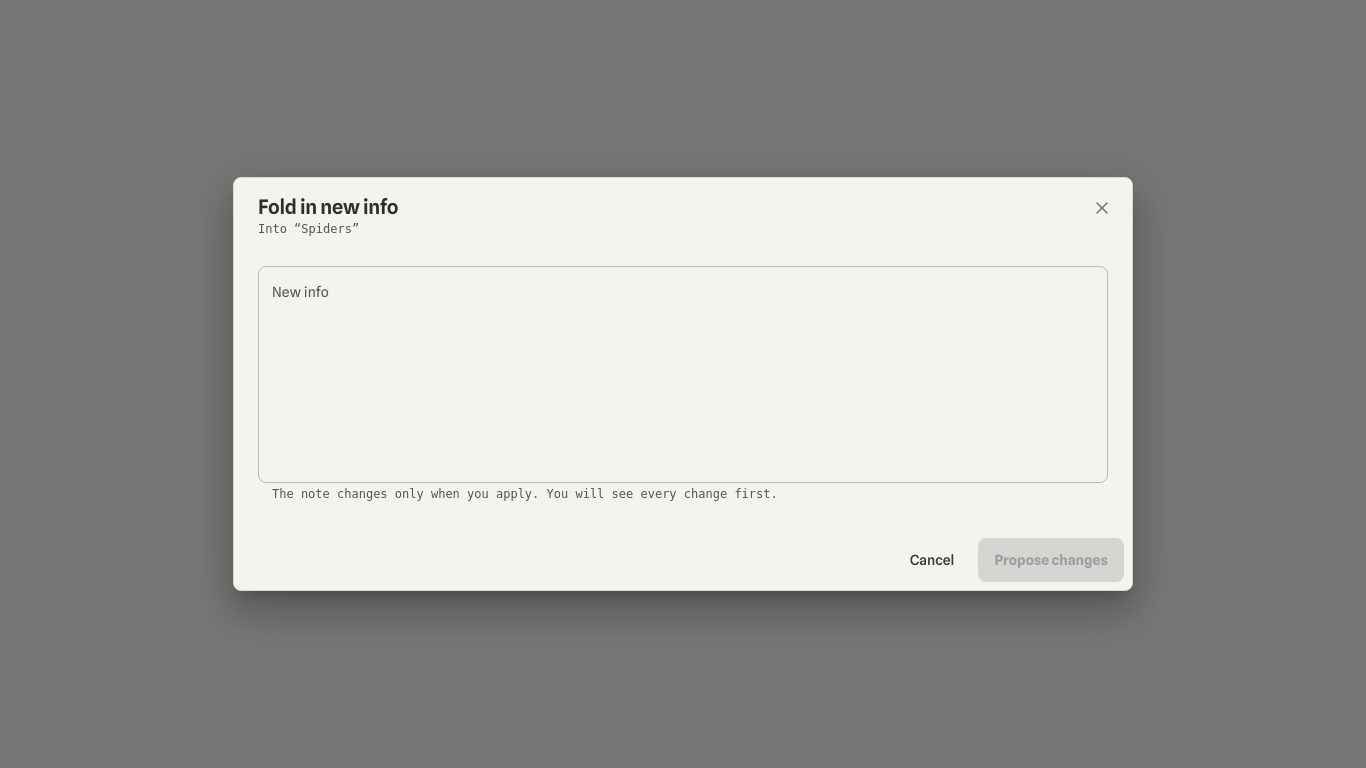
Test: FoldInSheet › a failed proposal says so and offers a retry, not an Apply
This screenshot has width=1366, height=768.
Replace the text in the text box labelled "New info" with "found a brown widow; the hourglass is red" at (683, 374), box [272, 282, 1094, 466]
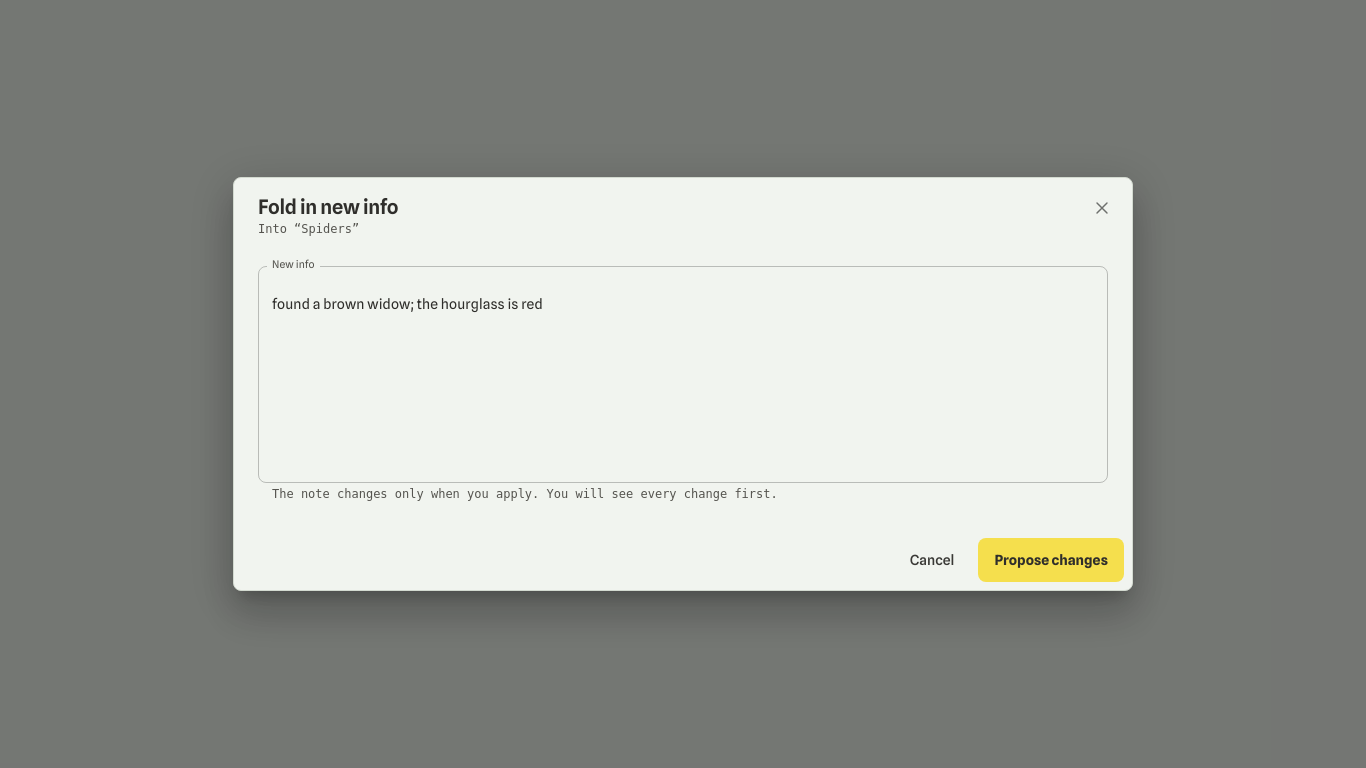
Click the button "Propose changes" at (1051, 560), box [978, 538, 1124, 582]
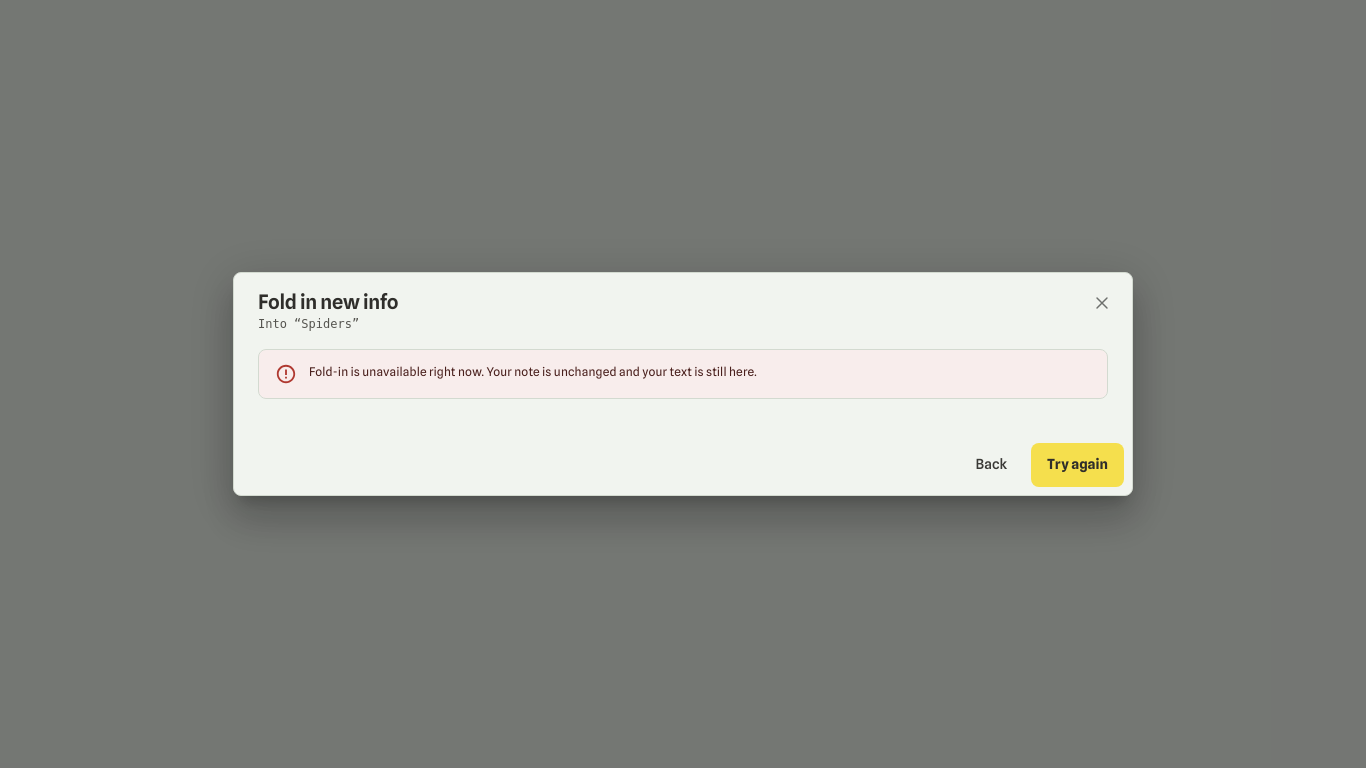
Expected: the button "Apply" is not shown
Expected: the text "Fold-in is unavailable right now" is shown, [309, 364, 757, 379]
Expected: the button "Try again" is shown, [1031, 443, 1124, 487]
